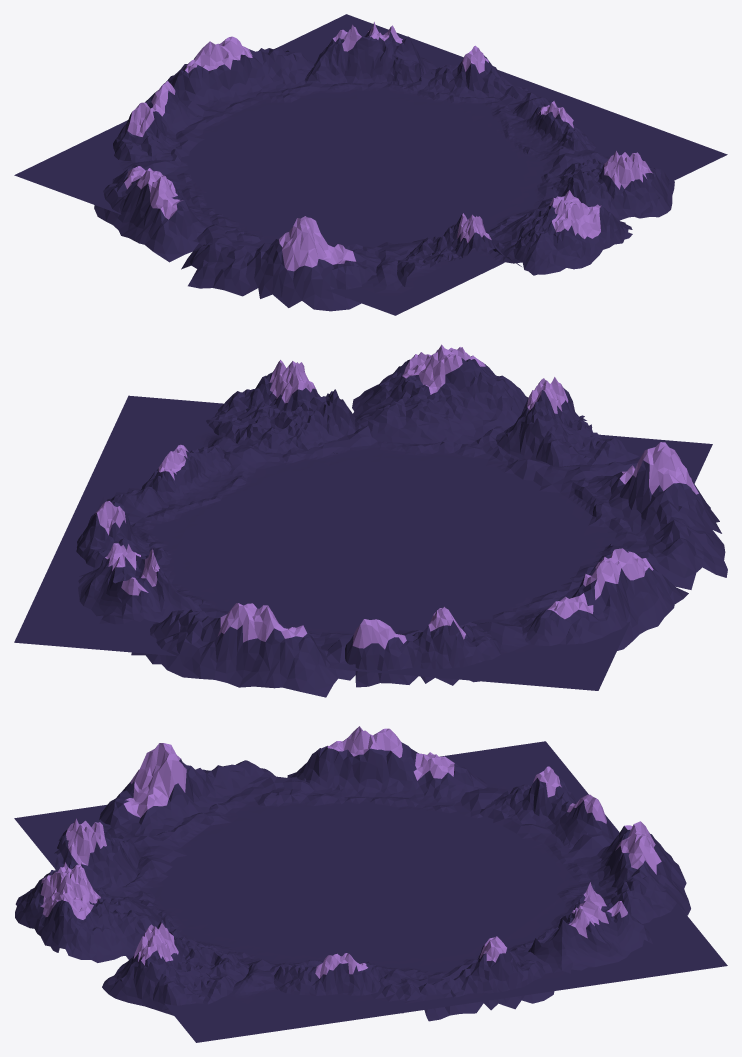
Rendered from Mountains.fbx.
3 views of the same model, one above another, from view 1: azimuth 30°, elevation 25°; view 2: azimuth 150°, elevation 25°; view 3: azimuth 270°, elevation 25° (orthographic). The views are drawn at different scales.
Visible parts, largest first — view 1: Plane.016; view 2: Plane.016; view 3: Plane.016.
Boxes of the visible parts, x1=… form: Plane.016: x1=14, y1=14, x2=727, y2=315; Plane.016: x1=14, y1=344, x2=727, y2=697; Plane.016: x1=14, y1=726, x2=727, y2=1042.
Size of the model in its own units: 472743 by 58302 by 472743.
2 materials, 1 textured.
